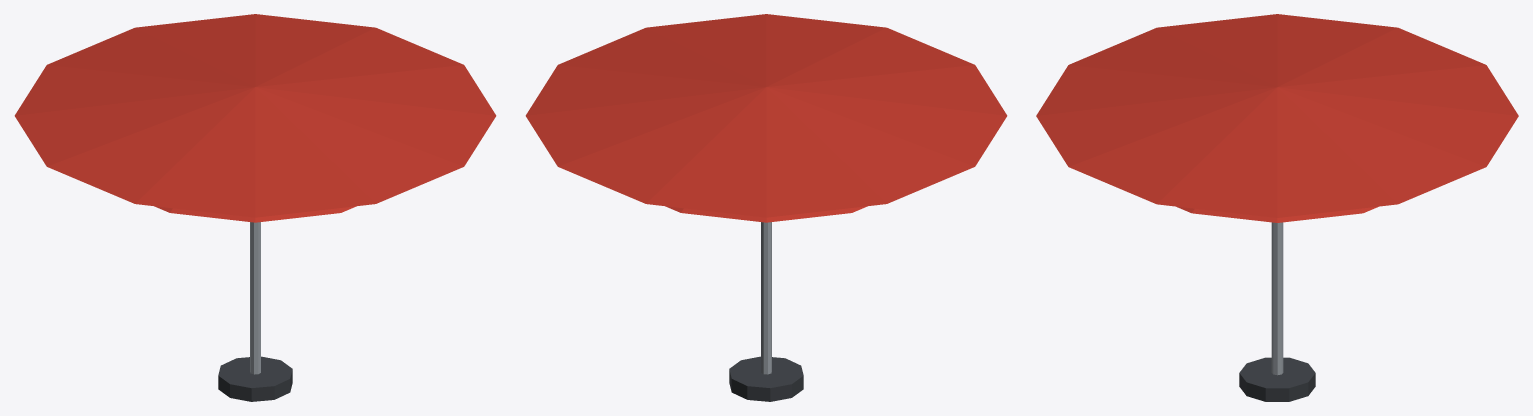
File: PRP_Umbrella.fbx
The picture shows the model from 3 angles, left to right: view 1: azimuth 30°, elevation 25°; view 2: azimuth 150°, elevation 25°; view 3: azimuth 270°, elevation 25°; orthographic projection.
Visible parts, largest first — view 1: PRP_Umbrella__BODY; view 2: PRP_Umbrella__BODY; view 3: PRP_Umbrella__BODY.
Boxes of the visible parts, x1=… form: PRP_Umbrella__BODY: x1=14, y1=14, x2=496, y2=401; PRP_Umbrella__BODY: x1=525, y1=14, x2=1007, y2=401; PRP_Umbrella__BODY: x1=1036, y1=14, x2=1518, y2=401.
Size of the model in its own units: 3.8 by 2.6 by 3.8.
